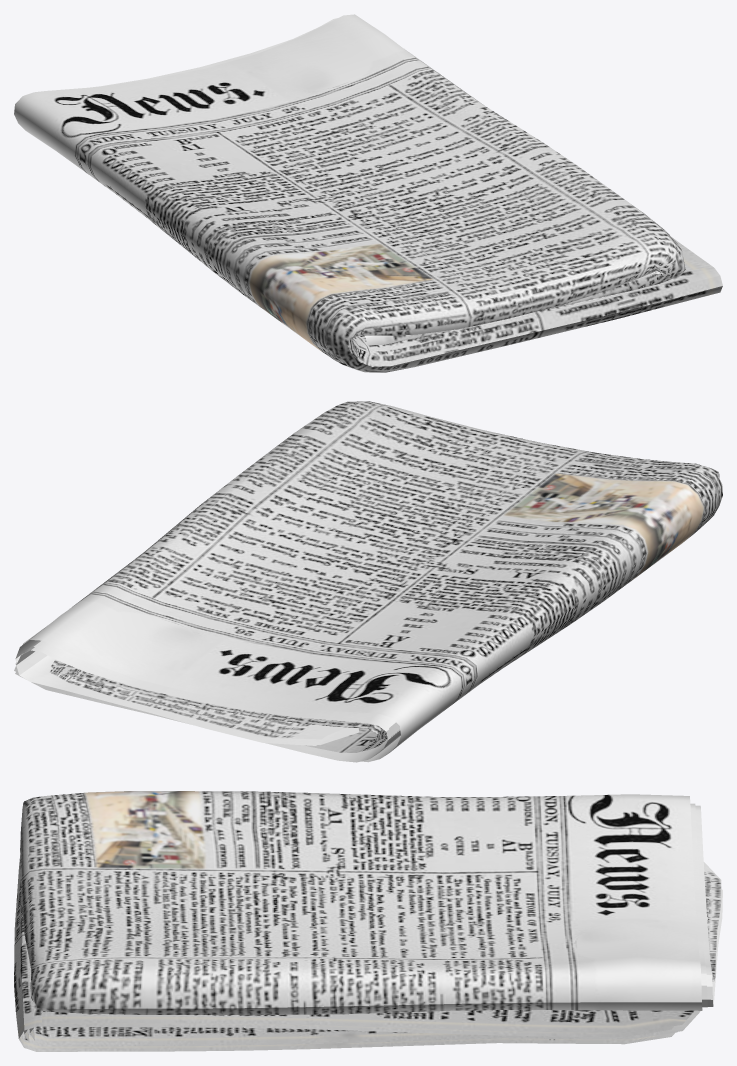
Rendered from Newspaper.fbx.
3 views of the same model, one above another, from view 1: azimuth 30°, elevation 25°; view 2: azimuth 150°, elevation 25°; view 3: azimuth 270°, elevation 25° (orthographic). The views are drawn at different scales.
Parts seen in each view (by area): view 1: Newspaper; view 2: Newspaper; view 3: Newspaper.
Boxes of the visible parts, box(x1,y1,x2,y2) form: Newspaper: box(14, 14, 722, 372); Newspaper: box(14, 401, 722, 762); Newspaper: box(14, 791, 722, 1051).
Size of the model in its own units: 20.34 by 3.42 by 30.6.
Materials: 1 (1 with a texture image).
